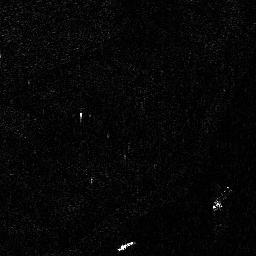ship: (212, 183, 230, 210), (117, 241, 136, 252)
